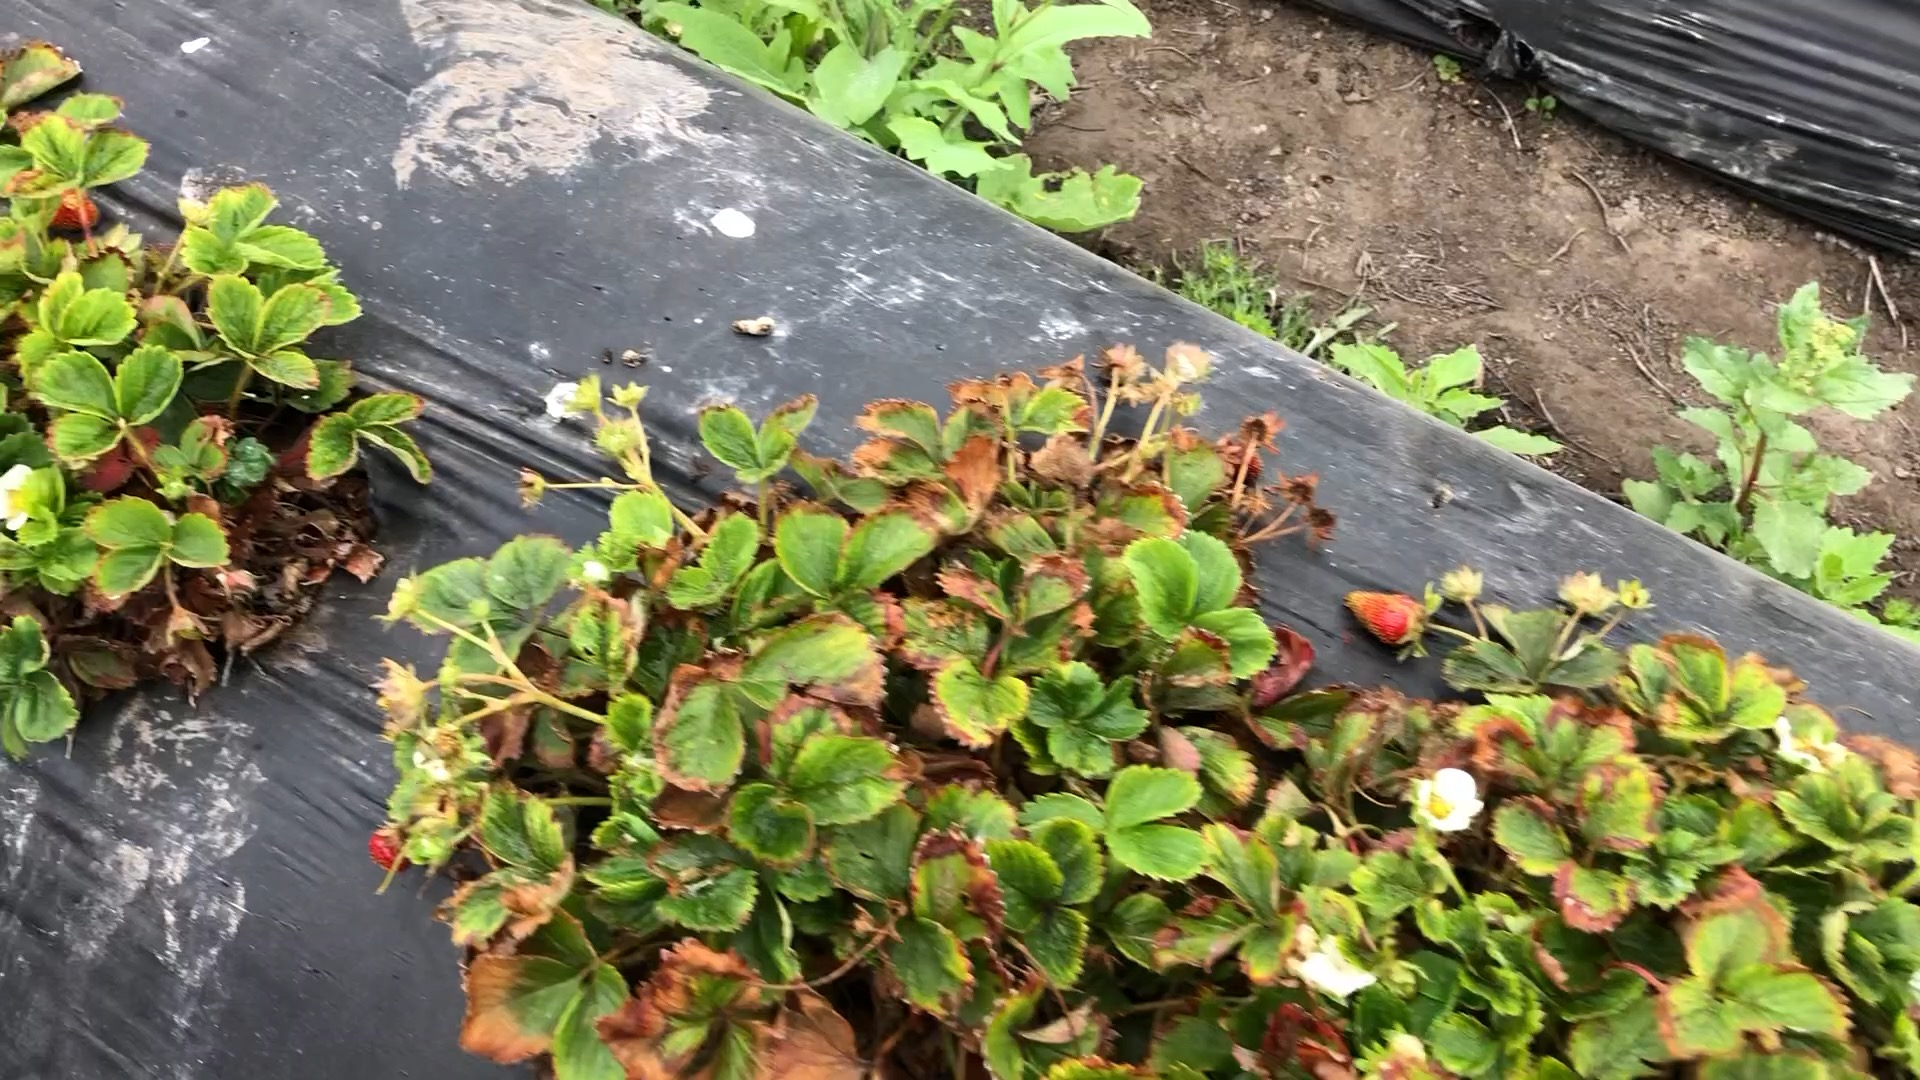ripe_strawberry: (50, 189, 108, 233), (367, 825, 415, 878)
unripe_strawberry: (1342, 585, 1433, 655)
